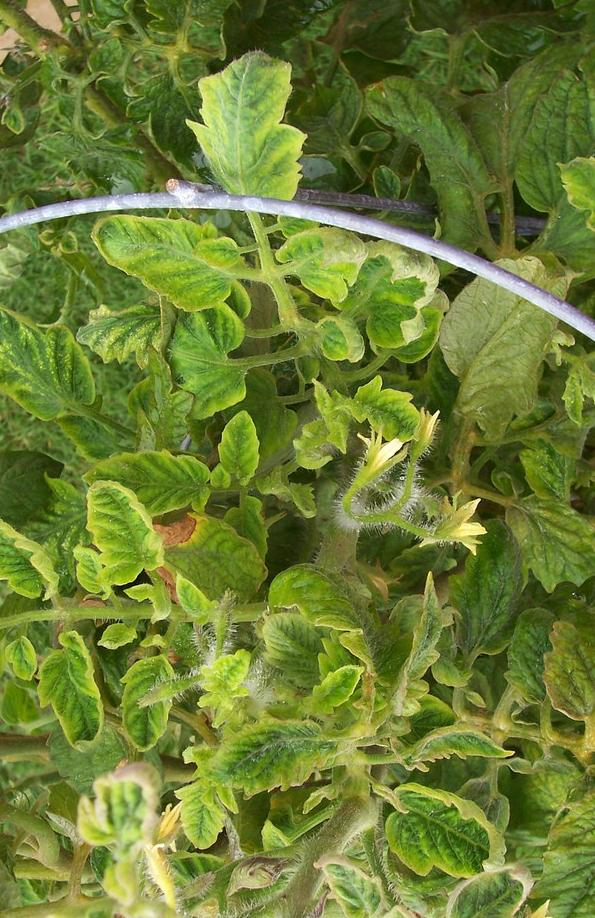Tomato leaf yellow virus: (189, 41, 308, 238), (187, 712, 369, 812), (90, 216, 250, 316), (383, 782, 517, 896), (69, 475, 177, 612), (262, 602, 369, 700), (50, 451, 219, 513), (262, 216, 374, 301), (41, 626, 110, 756), (0, 495, 60, 604), (174, 751, 234, 859), (122, 651, 177, 757), (212, 406, 269, 507), (332, 385, 424, 447), (551, 153, 595, 262)
